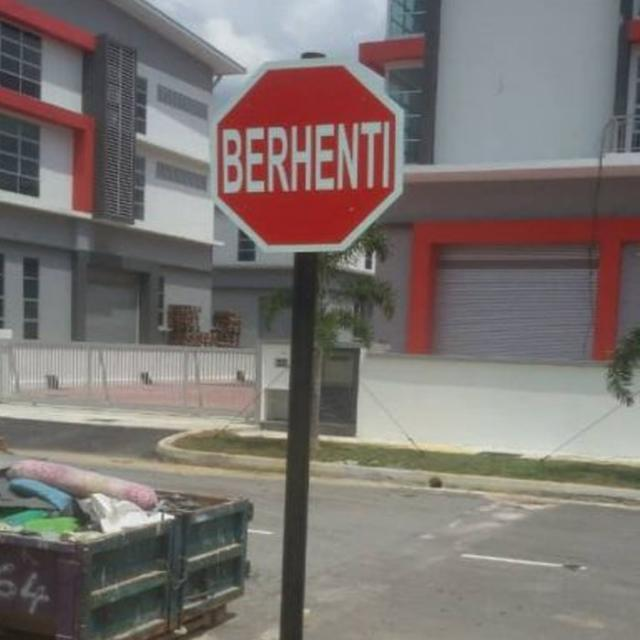stop-sign: (210, 51, 424, 282)
